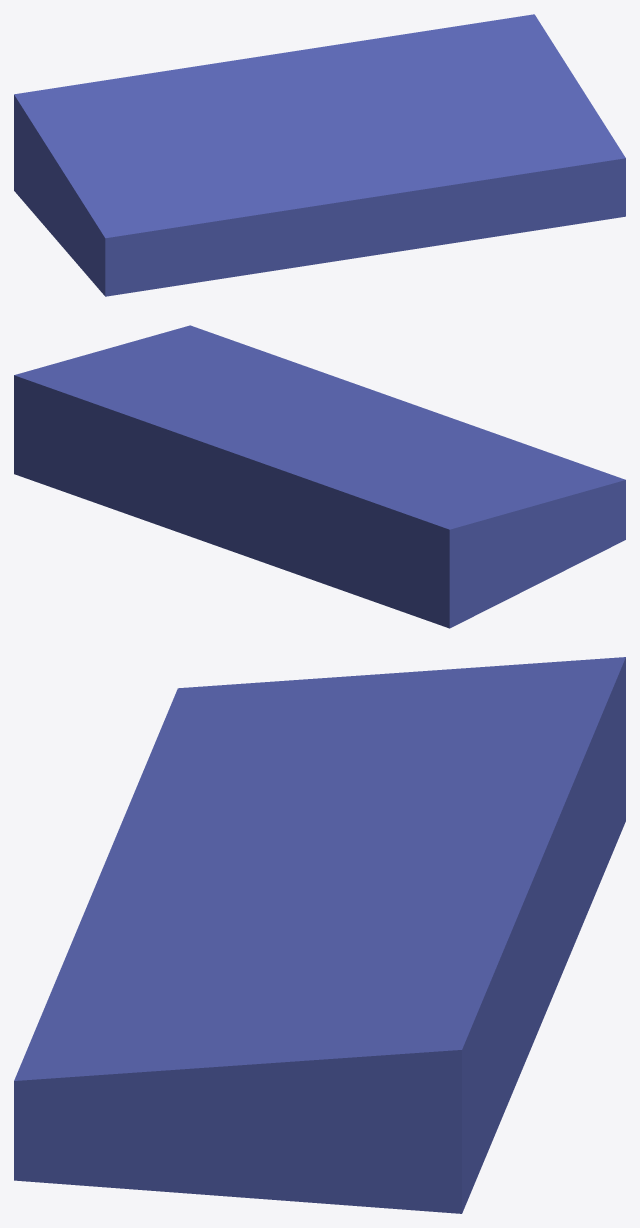
The model's file is blockout_Desk_with_PC_Keyboard.fbx.
3 renders of one model, top to bottom at view 1: azimuth 30°, elevation 25°; view 2: azimuth 150°, elevation 25°; view 3: azimuth 270°, elevation 25°, orthographic. The views are drawn at different scales.
Visible parts, largest first — view 1: Object003; view 2: Object003; view 3: Object003.
Part boxes in pixels (left/top/right/bottom): Object003: left=14, top=14, right=625, bottom=296; Object003: left=14, top=325, right=625, bottom=628; Object003: left=14, top=657, right=625, bottom=1213.
Bounding box in the file's own units: 29.8 × 5.35 × 18.08.
1 material, 1 textured.
